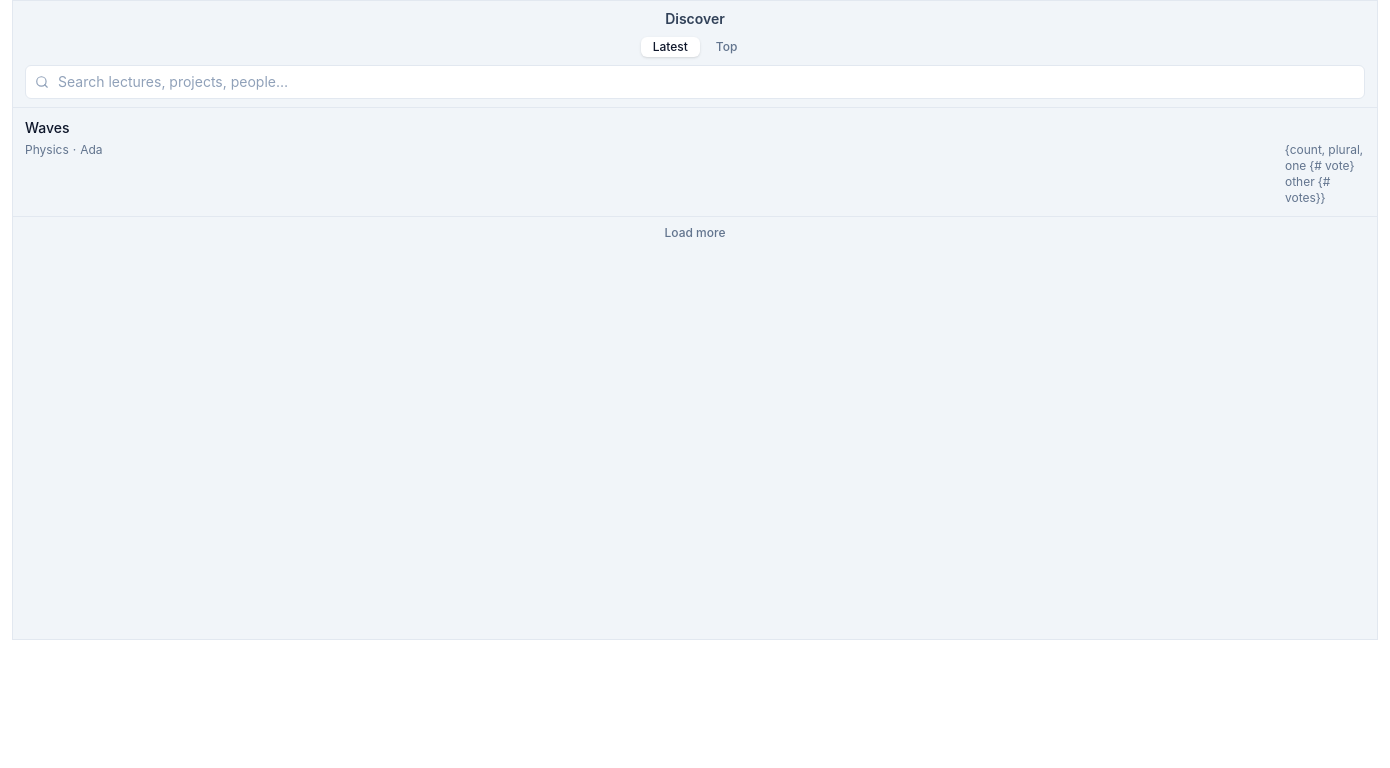
Test: DeckFeed lazy loading › appends the next page and asks for the right offset
This screenshot has width=1390, height=768.
Check: the link "Waves" is shown, box [25,119,70,136]
Click the button "Load more" at (695, 233), box [13,217,1377,249]
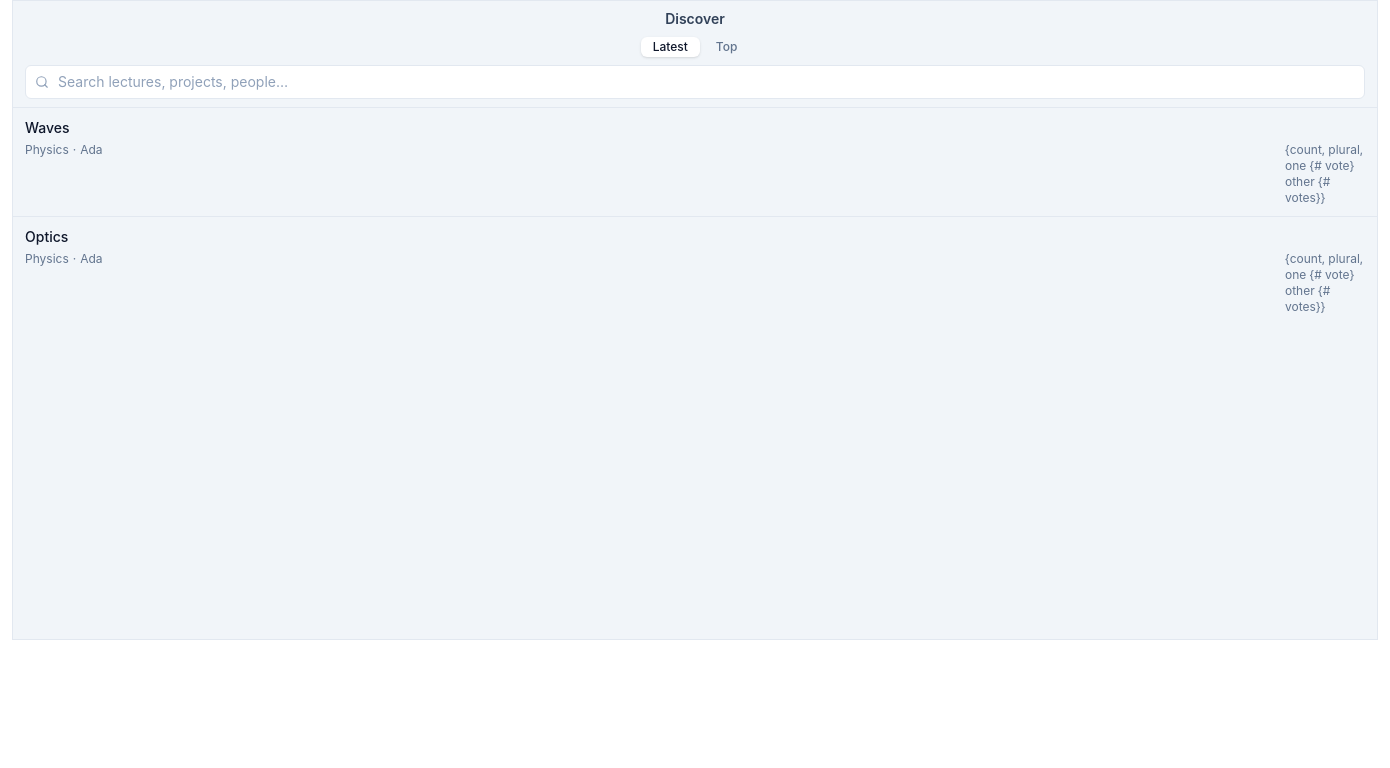
Check: the link "Waves" is shown, box [25,119,70,136]
Check: the link "Optics" is shown, box [25,228,68,245]
Check: the button "Load more" is gone
